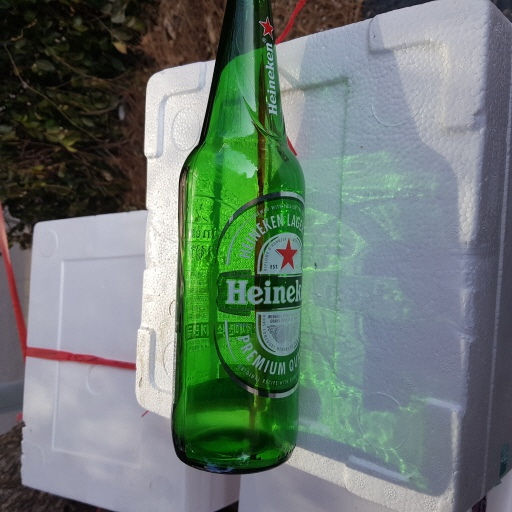Glass_1: (168, 1, 304, 474)
